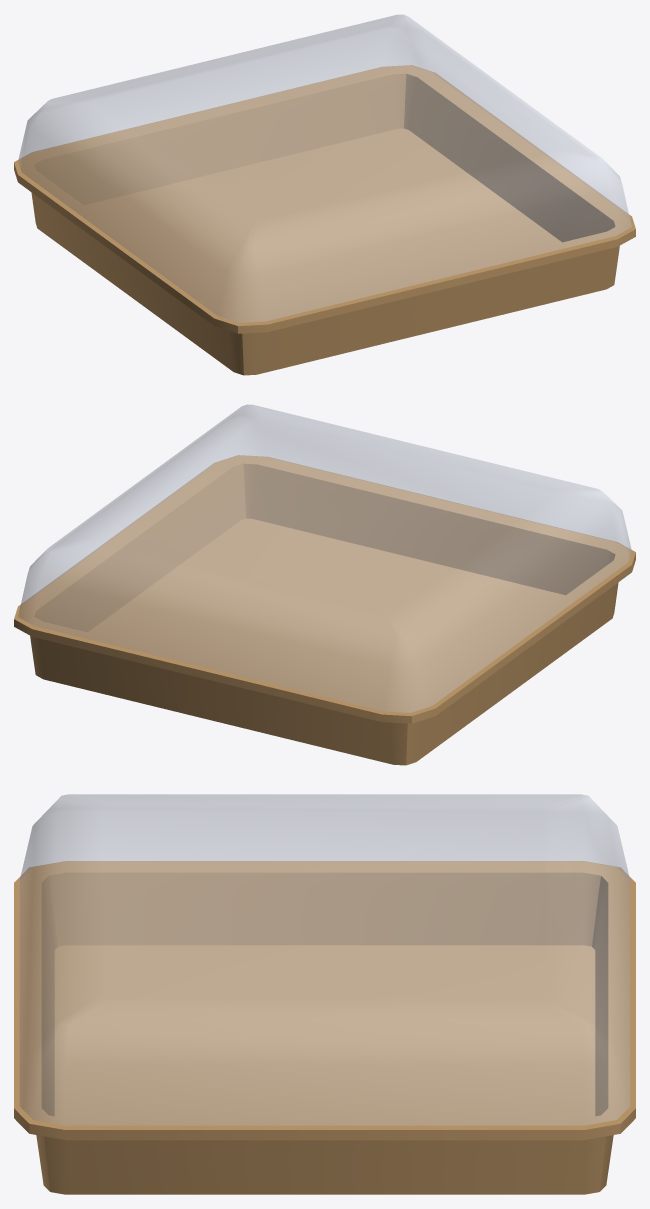
Rendered from caja_salchichas_12.glb.
3 renders of one model, top to bottom at view 1: azimuth 30°, elevation 25°; view 2: azimuth 150°, elevation 25°; view 3: azimuth 270°, elevation 25°, orthographic. The views are drawn at different scales.
Visible parts, largest first — view 1: caja_salchichas_12; view 2: caja_salchichas_12; view 3: caja_salchichas_12.
Part boxes in pixels (x1,y1,x2,y2): caja_salchichas_12: (14,14,635,375); caja_salchichas_12: (14,404,635,765); caja_salchichas_12: (14,794,635,1194).
Size of the model in its own units: 0.172 by 0.0505 by 0.168.
